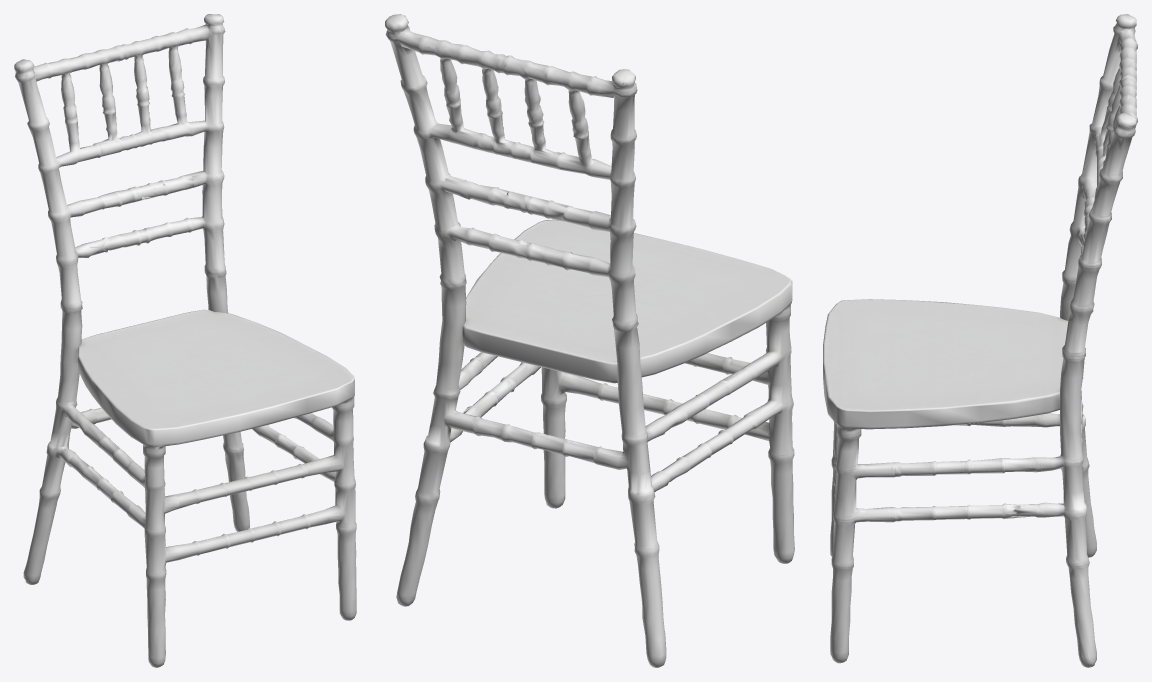
The model's file is Chiavari_Chair_Whit_0320031011_texture.glb.
3 renders of one model, left to right at view 1: azimuth 30°, elevation 25°; view 2: azimuth 150°, elevation 25°; view 3: azimuth 270°, elevation 25°, orthographic. The views are drawn at different scales.
Visible parts, largest first — view 1: Mesh_0.004; view 2: Mesh_0.004; view 3: Mesh_0.004.
Part boxes in pixels (<box>): Mesh_0.004: <box>14,14,356,667</box>; Mesh_0.004: <box>385,14,794,667</box>; Mesh_0.004: <box>823,14,1137,667</box>.
Bounding box in the file's own units: 0.4206 × 0.9144 × 0.4769.
1 material, 1 textured.
